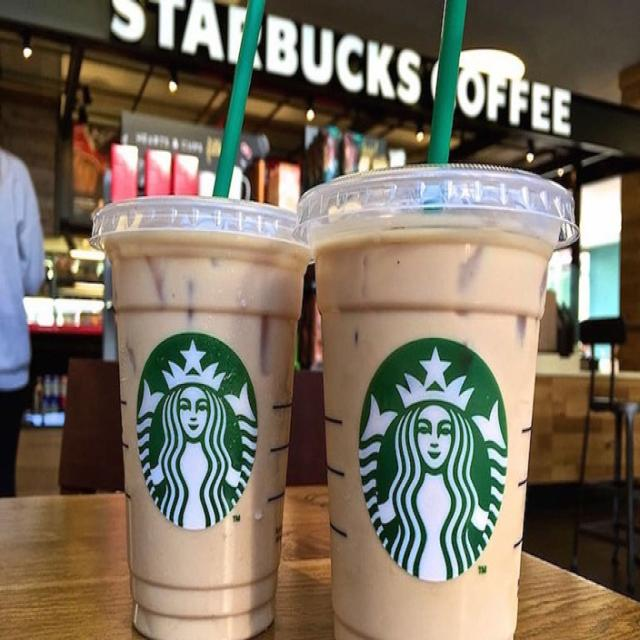starbucks: (101, 0, 581, 146), (350, 332, 509, 582), (135, 328, 261, 545)
